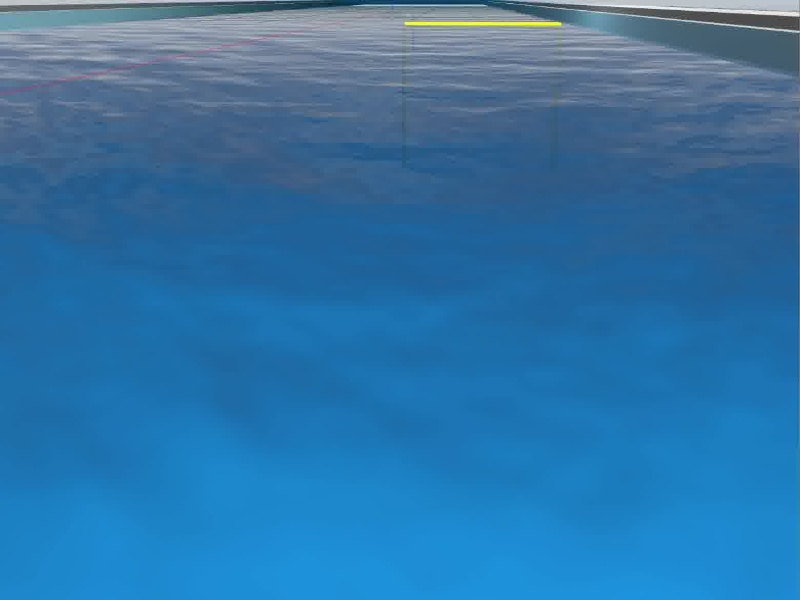gate: (401, 19, 564, 169)
